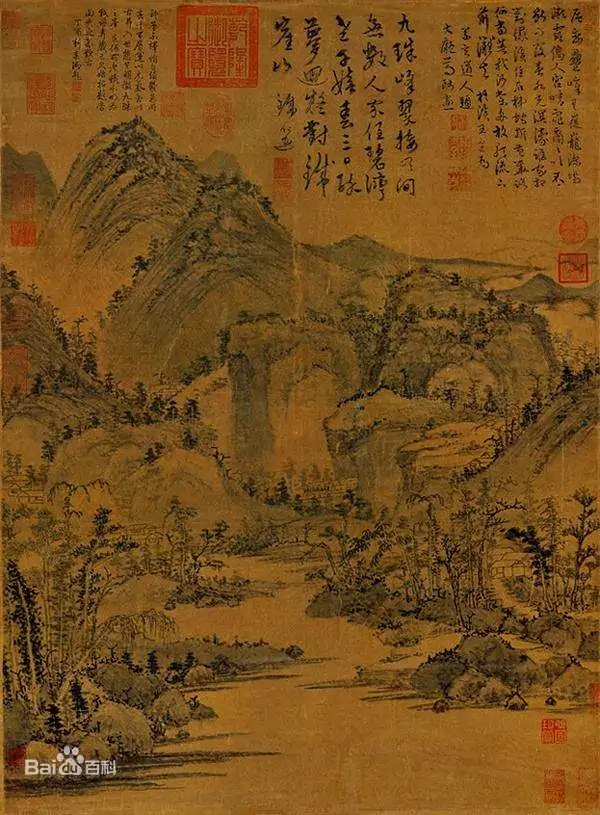house: (489, 542, 538, 584), (7, 476, 51, 509)
mountain: (372, 255, 581, 407)
range: (83, 117, 297, 353)
rock: (427, 628, 586, 707), (152, 638, 307, 671), (14, 739, 123, 778), (83, 704, 163, 757), (144, 683, 203, 731)
tree: (7, 520, 135, 734), (404, 484, 498, 624), (160, 495, 230, 596), (561, 479, 600, 615), (512, 519, 564, 609), (48, 483, 109, 542), (161, 400, 203, 424), (111, 409, 155, 427), (38, 437, 61, 468), (274, 476, 291, 514), (346, 490, 365, 519), (60, 422, 82, 446), (86, 413, 106, 435), (30, 372, 48, 396), (104, 372, 115, 401)
